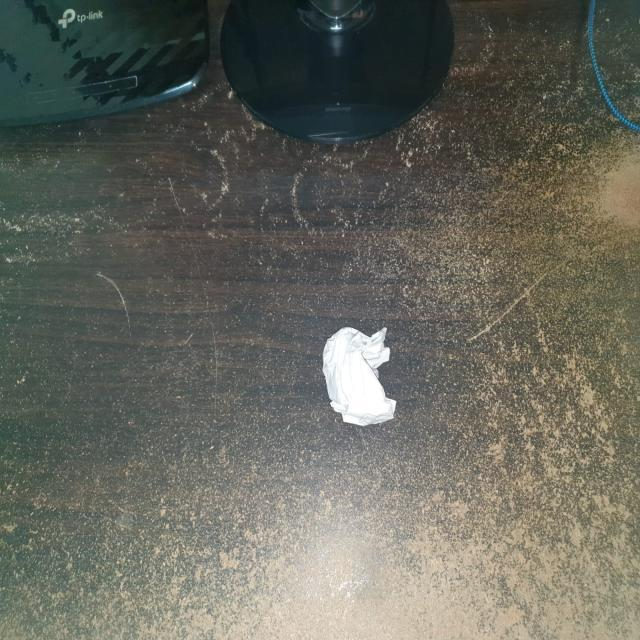Paper: (323, 328, 397, 424)
